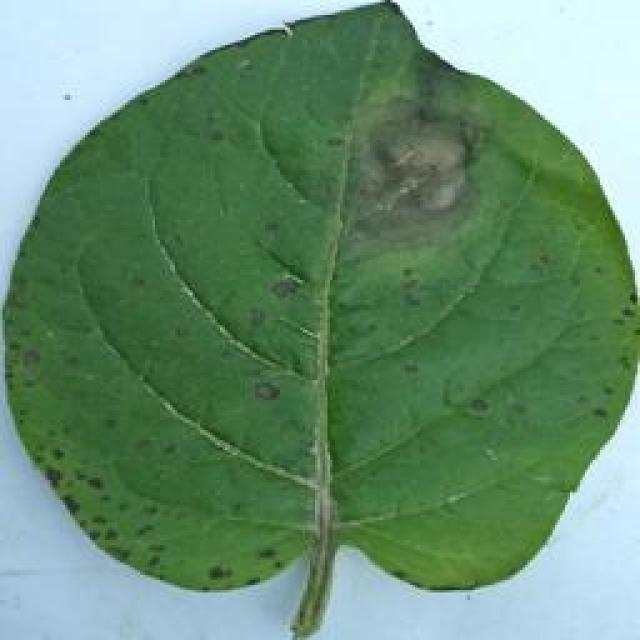Potato_Late_Blight: (9, 2, 629, 622)
